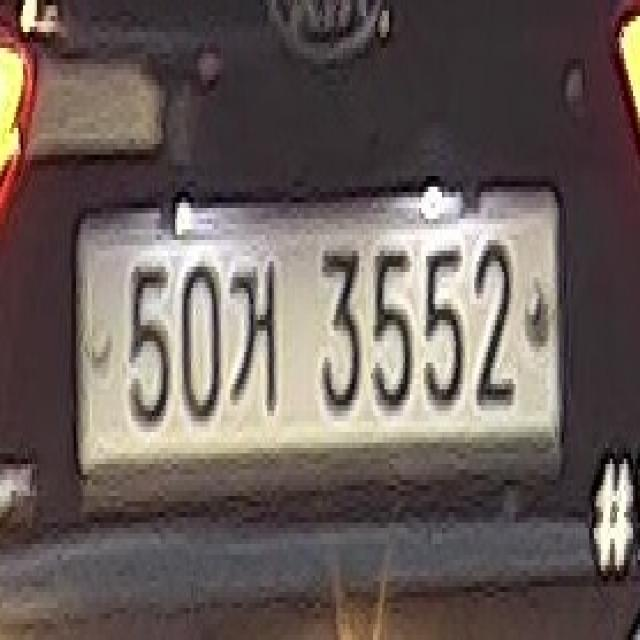0: (182, 257, 220, 435)
2: (472, 233, 518, 418)
3: (320, 243, 364, 421)
5: (123, 256, 173, 439), (422, 235, 470, 422), (369, 232, 416, 417)
geo: (228, 255, 280, 430)
license_plate: (69, 183, 568, 494)
